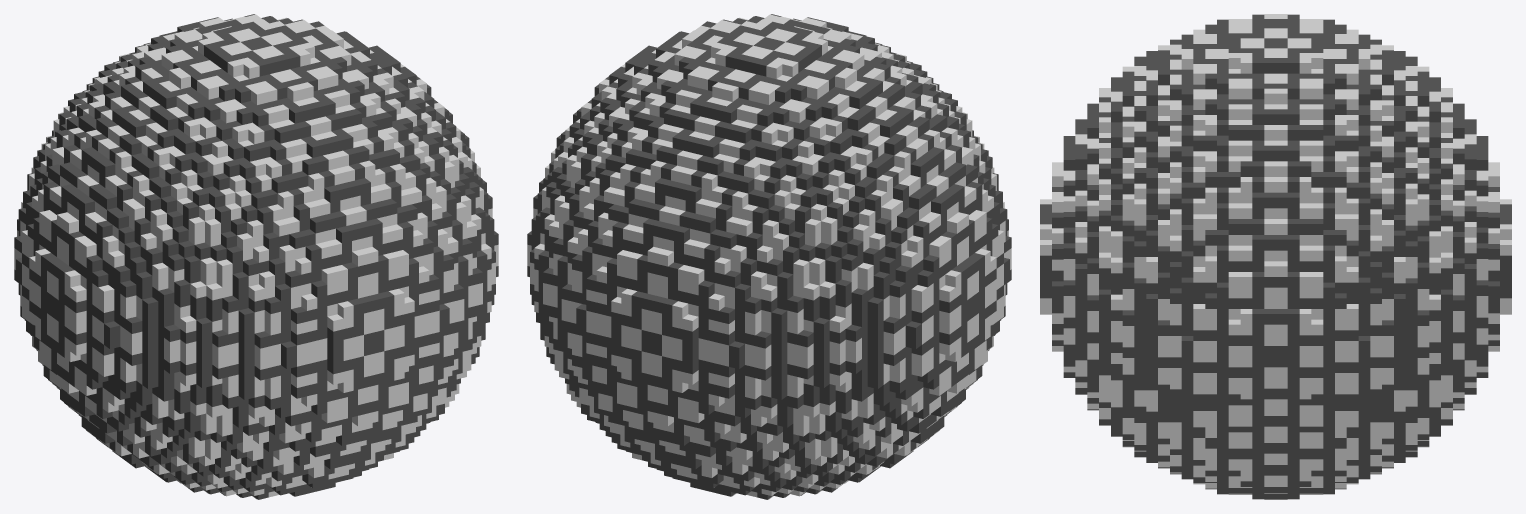
The model's file is каскад(класический).obj.
3 renders of one model, left to right at view 1: azimuth 30°, elevation 25°; view 2: azimuth 150°, elevation 25°; view 3: azimuth 270°, elevation 25°, orthographic.
Size of the model in its own units: 4 by 4 by 4.
1 material, 1 textured.
